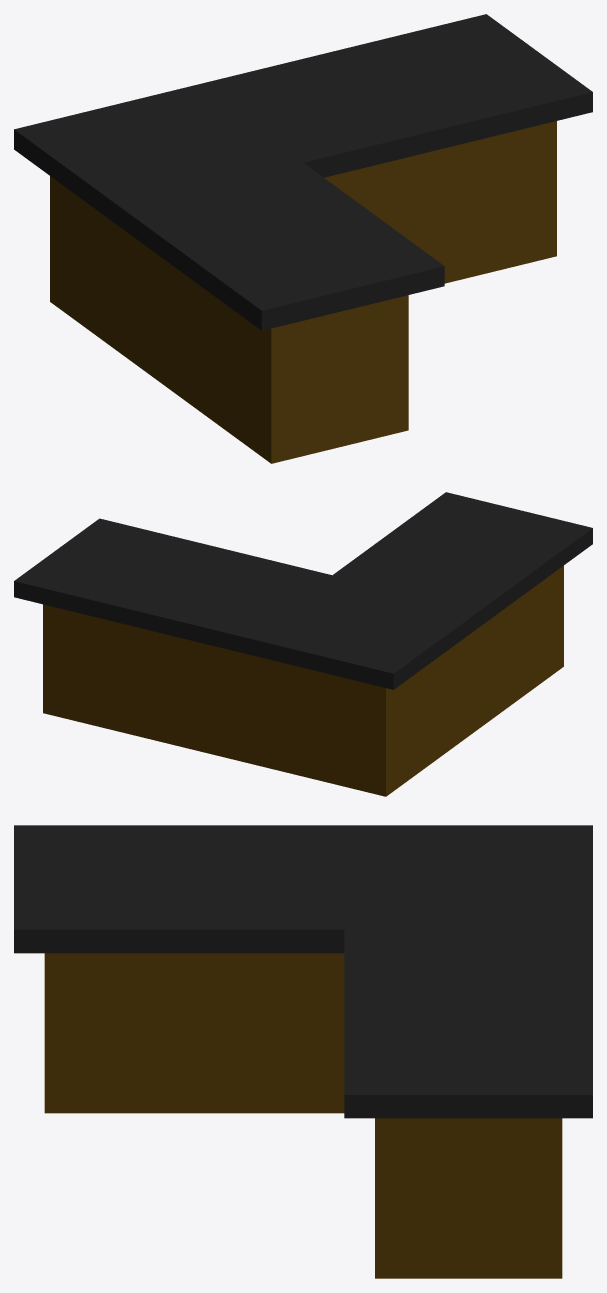
File: Counter 2.fbx
3 views of the same model, one above another, from view 1: azimuth 30°, elevation 25°; view 2: azimuth 150°, elevation 25°; view 3: azimuth 270°, elevation 25° (orthographic). The views are drawn at different scales.
Parts seen in each view (by area): view 1: pCube1; view 2: pCube1; view 3: pCube1.
Boxes of the visible parts, <box> form: pCube1: <box>14,14,592,463</box>; pCube1: <box>14,492,592,796</box>; pCube1: <box>14,825,592,1278</box>.
Bounding box in the file's own units: 12.46 × 4.24 × 11.32.
